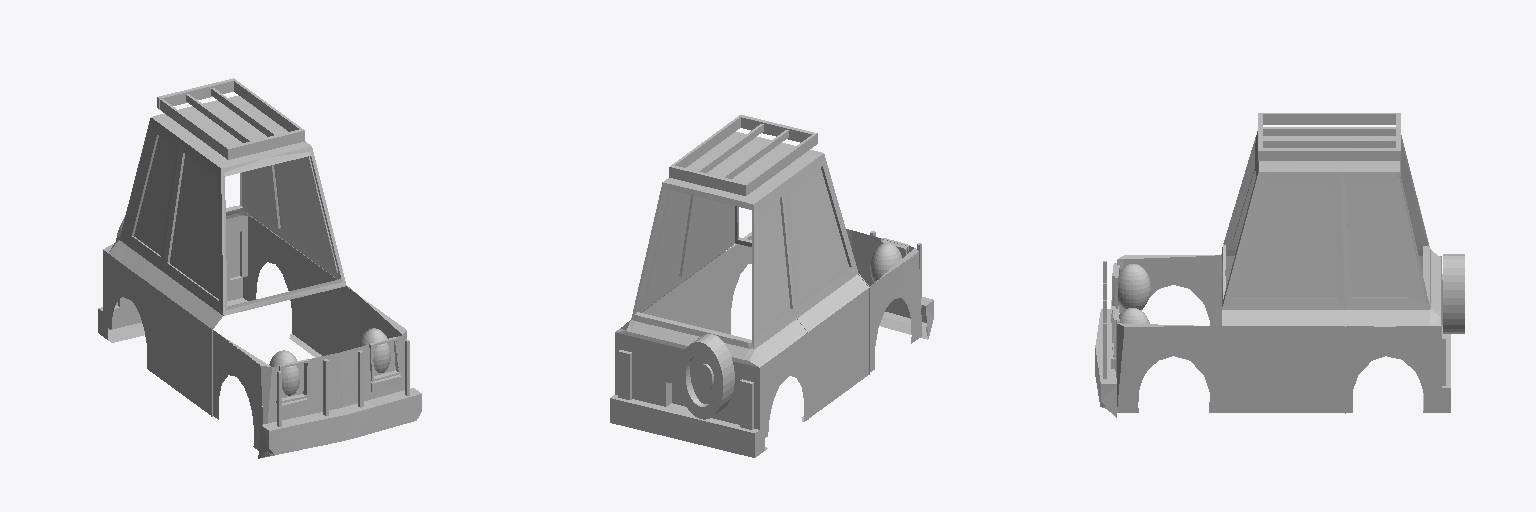
Rendered from jeepcuerpo.obj.
3 views of the same model, side by side, from view 1: azimuth 30°, elevation 25°; view 2: azimuth 150°, elevation 25°; view 3: azimuth 270°, elevation 25° (orthographic).
Visible parts, largest first — view 1: Body_Cube, FrontLeftWindow_Cube.001, Cube.002_Cube.029, RoofRack.025_Cube.025, Cube.016_Cube.018, Cube.004, Cube.022_Cube.024, Sphere.001, Sphere; view 2: Body_Cube, FrontLeftWindow_Cube.001, RoofRack.025_Cube.025, Cube.016_Cube.018, Cube.022_Cube.024, Cylinder.007_Cylinder.010, Cube.002_Cube.029, Cylinder.008_Cylinder.011, Sphere.001, Cube.021_Cube.023; view 3: Body_Cube, FrontLeftWindow_Cube.001, RoofRack.025_Cube.025, Cube.016_Cube.018, Cylinder.007_Cylinder.010, Cube.002_Cube.029, Sphere.001.
Boxes of the visible parts, x1,y1,x2,y2 form: Body_Cube: [103, 95, 406, 450]; FrontLeftWindow_Cube.001: [170, 154, 336, 298]; Cube.002_Cube.029: [258, 388, 421, 458]; RoofRack.025_Cube.025: [157, 78, 304, 159]; Cube.016_Cube.018: [134, 136, 278, 255]; Cube.004: [276, 337, 400, 402]; Cube.022_Cube.024: [98, 276, 247, 335]; Sphere.001: [269, 350, 299, 395]; Sphere: [359, 328, 390, 372]; Body_Cube: [615, 132, 921, 453]; FrontLeftWindow_Cube.001: [682, 167, 848, 302]; RoofRack.025_Cube.025: [669, 115, 817, 195]; Cube.016_Cube.018: [646, 190, 790, 327]; Cube.022_Cube.024: [610, 395, 759, 457]; Cylinder.007_Cylinder.010: [678, 334, 734, 419]; Cube.002_Cube.029: [879, 297, 933, 339]; Cylinder.008_Cylinder.011: [691, 355, 715, 402]; Sphere.001: [870, 243, 902, 282]; Cube.021_Cube.023: [618, 373, 753, 429]; Body_Cube: [1111, 131, 1441, 413]; FrontLeftWindow_Cube.001: [1233, 171, 1336, 297]; RoofRack.025_Cube.025: [1258, 113, 1400, 160]; Cube.016_Cube.018: [1346, 184, 1407, 296]; Cylinder.007_Cylinder.010: [1443, 254, 1464, 333]; Cube.002_Cube.029: [1095, 309, 1116, 417]; Sphere.001: [1118, 264, 1150, 309].
Bounding box in the file's own units: 3.17 × 4.75 × 6.43.